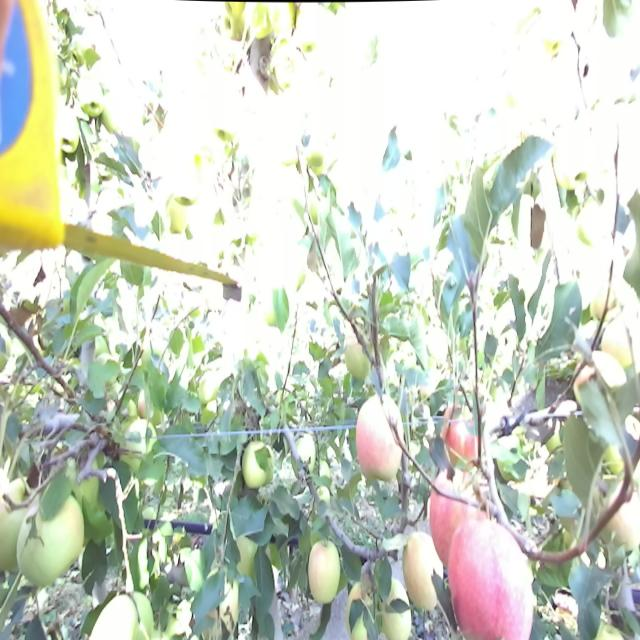apple: (449, 518, 533, 640), (17, 496, 82, 583), (357, 395, 401, 479), (89, 589, 150, 640), (403, 536, 444, 610), (442, 403, 479, 464), (308, 539, 340, 607), (430, 478, 463, 542), (0, 478, 22, 570), (240, 438, 274, 489), (382, 577, 409, 640), (122, 420, 157, 466), (347, 583, 371, 640), (78, 78, 104, 118), (236, 538, 260, 578), (221, 584, 238, 630), (166, 198, 186, 236)
